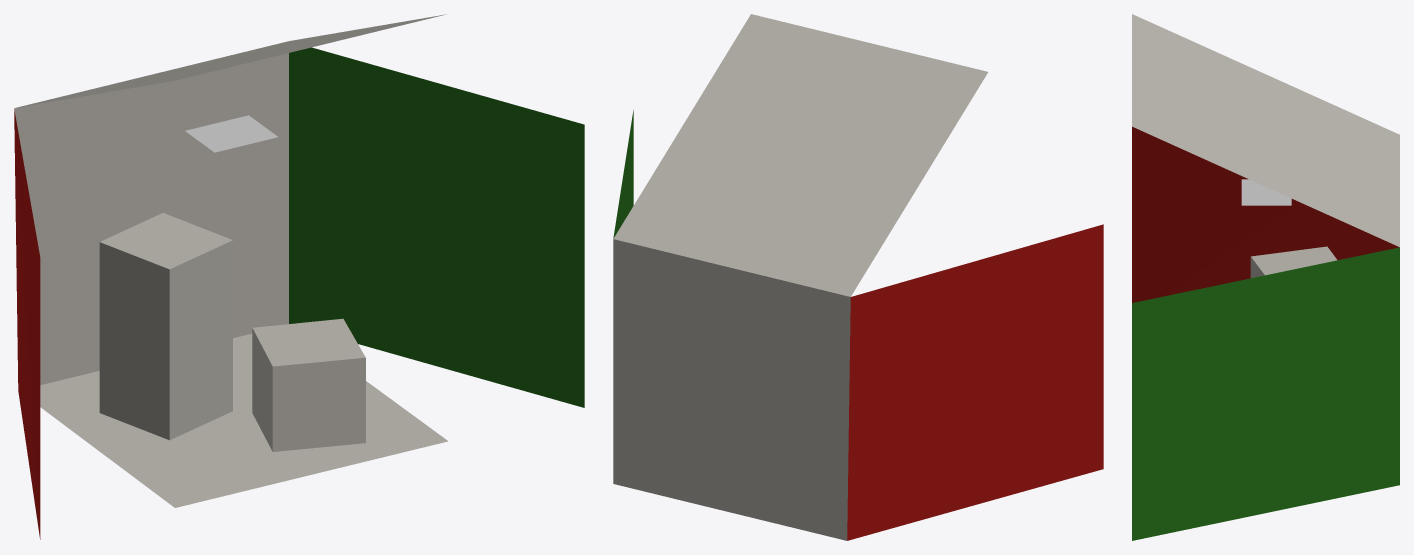
The model's file is CornellBox-Original.obj.
3 views of the same model, side by side, from view 1: azimuth 30°, elevation 25°; view 2: azimuth 150°, elevation 25°; view 3: azimuth 270°, elevation 25° (orthographic). The views are drawn at different scales.
Visible parts, largest first — view 1: rightWall, backWall, shortBox, floor, leftWall, ceiling, light; view 2: leftWall, ceiling, backWall, rightWall; view 3: rightWall, ceiling, leftWall, shortBox, light.
Boxes of the visible parts, left/top/right/bottom form: rightWall: left=289, top=47, right=584, bottom=407; backWall: left=14, top=53, right=288, bottom=385; shortBox: left=99, top=213, right=232, bottom=440; floor: left=40, top=333, right=447, bottom=507; leftWall: left=14, top=110, right=365, bottom=539; ceiling: left=17, top=14, right=446, bottom=107; light: left=185, top=115, right=277, bottom=152; leftWall: left=847, top=224, right=1103, bottom=540; ceiling: left=613, top=14, right=988, bottom=296; backWall: left=613, top=239, right=850, bottom=540; rightWall: left=613, top=110, right=633, bottom=238; rightWall: left=1132, top=247, right=1399, bottom=540; ceiling: left=1132, top=14, right=1399, bottom=247; leftWall: left=1132, top=126, right=1399, bottom=302; shortBox: left=1250, top=246, right=1337, bottom=278; light: left=1241, top=179, right=1291, bottom=205.
Size of the model in its own units: 4 by 3 by 2.03.
